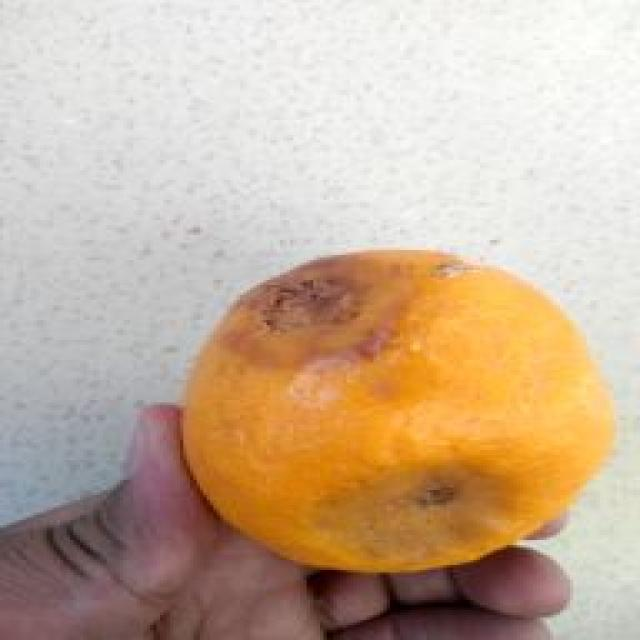Bad_Orange: (185, 250, 612, 572)
